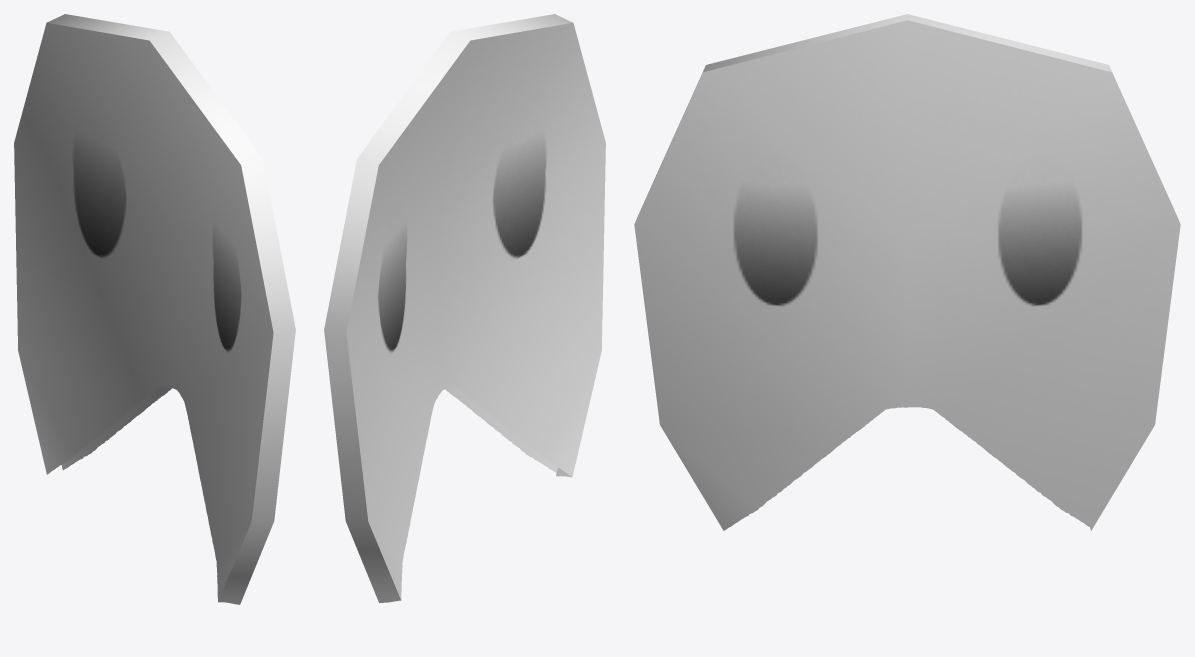
File: ghost_mask.fbx
The picture shows the model from 3 angles, left to right: view 1: azimuth 30°, elevation 25°; view 2: azimuth 150°, elevation 25°; view 3: azimuth 270°, elevation 25°; orthographic projection. The views are drawn at different scales.
Visible parts, largest first — view 1: Cube; view 2: Cube; view 3: Cube.
Part boxes in pixels (<box>): Cube: <box>14,14,295,604</box>; Cube: <box>324,14,605,603</box>; Cube: <box>634,14,1180,532</box>.
Bounding box in the file's own units: 2.59 × 20.23 × 16.27.
Materials: 1 (1 with a texture image).
